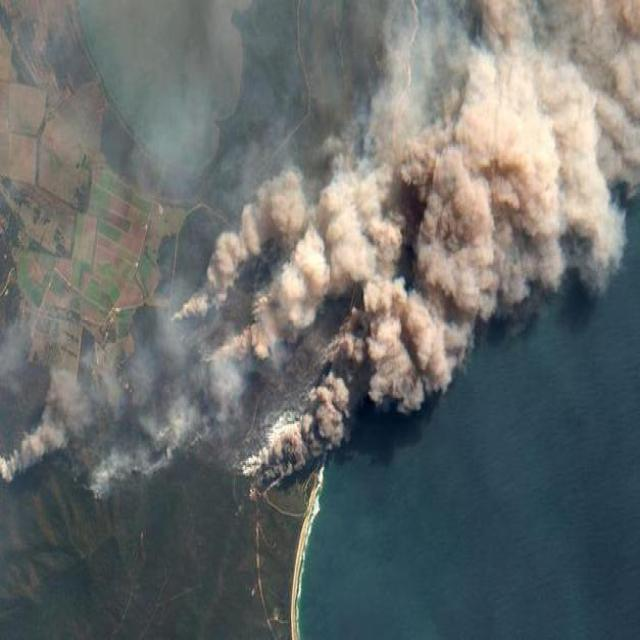Smoke: (197, 0, 637, 482)
